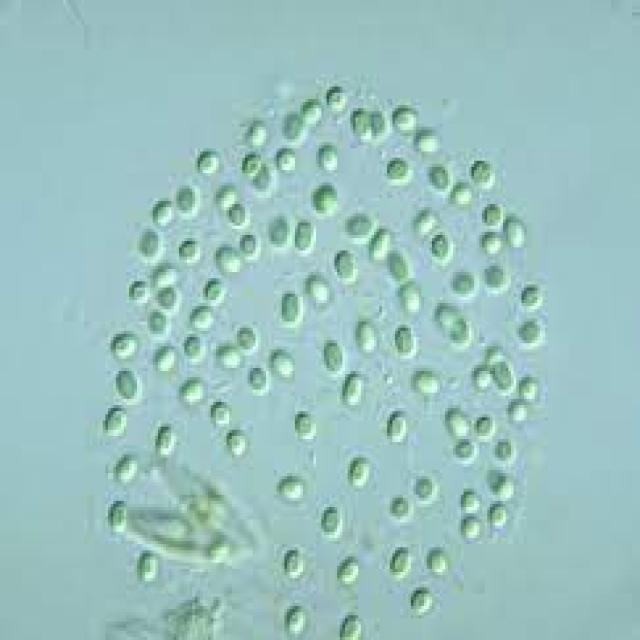Blue Green Algae: (469, 154, 498, 194), (382, 154, 416, 188), (342, 210, 377, 241), (392, 322, 422, 358), (134, 548, 161, 588), (337, 554, 364, 594), (100, 402, 129, 439), (332, 248, 361, 284), (266, 214, 292, 254), (348, 452, 374, 492), (311, 180, 342, 213), (276, 473, 306, 507), (392, 99, 419, 136), (113, 365, 140, 402), (348, 108, 374, 146), (490, 358, 516, 396), (245, 358, 271, 396), (224, 426, 250, 464), (448, 316, 477, 350), (279, 548, 308, 582), (369, 105, 395, 142), (516, 316, 548, 346), (155, 420, 179, 460), (108, 498, 132, 538), (148, 195, 176, 229), (279, 290, 306, 324), (234, 318, 261, 352), (387, 544, 414, 578), (292, 216, 316, 254), (292, 408, 316, 445), (321, 337, 345, 374), (342, 374, 366, 411), (137, 226, 163, 260), (314, 142, 342, 173), (174, 180, 200, 213), (319, 504, 342, 541), (476, 204, 506, 232), (406, 588, 434, 618), (321, 84, 348, 115), (176, 235, 203, 266), (126, 278, 153, 309), (516, 374, 543, 405), (337, 606, 364, 637), (429, 232, 453, 266), (387, 250, 411, 284), (508, 396, 532, 430), (519, 282, 548, 310), (142, 309, 171, 337), (427, 164, 453, 195), (424, 547, 450, 578), (203, 275, 226, 309), (282, 603, 305, 637), (208, 399, 232, 430), (240, 148, 263, 180), (195, 148, 221, 176), (482, 262, 508, 290), (158, 284, 184, 312), (277, 146, 300, 177), (385, 411, 408, 442), (493, 433, 516, 464), (182, 331, 208, 358), (237, 232, 261, 260), (450, 269, 474, 297), (474, 411, 498, 439), (227, 201, 250, 229), (300, 99, 324, 124), (487, 504, 511, 529), (461, 516, 485, 541), (282, 114, 303, 142), (461, 488, 482, 516)
